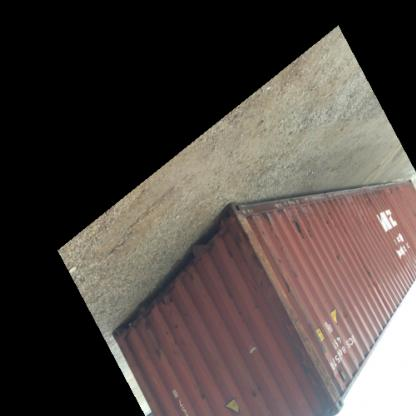Damage: (292, 310, 342, 414), (286, 200, 312, 244), (166, 285, 184, 348), (140, 311, 158, 367), (216, 234, 242, 270), (318, 196, 340, 231), (347, 190, 379, 214), (358, 258, 376, 280), (280, 272, 294, 298), (259, 204, 271, 234), (195, 386, 213, 404), (221, 284, 236, 302), (386, 182, 402, 198), (329, 248, 345, 263), (244, 388, 260, 402), (338, 315, 352, 323)
